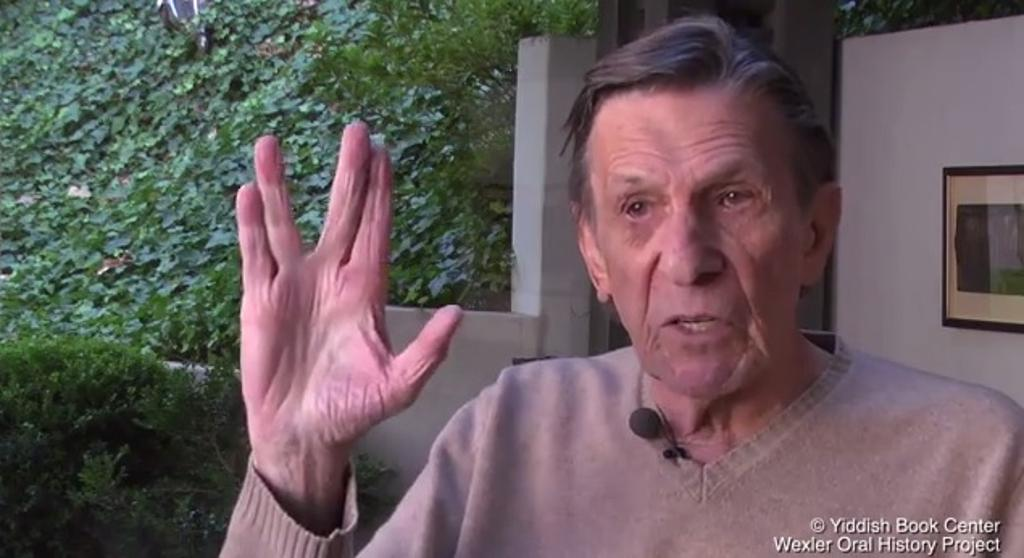face: (592, 90, 804, 398)
